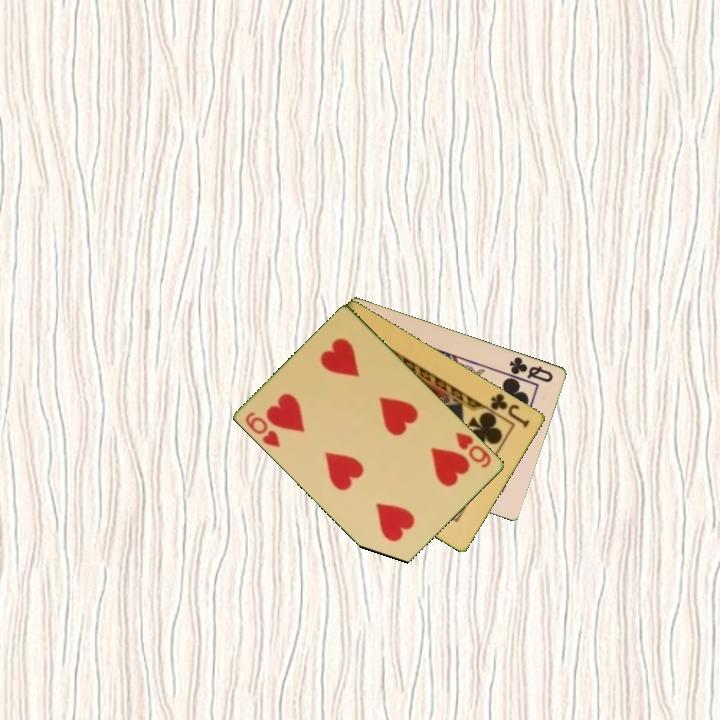6h: (452, 429, 494, 471), (242, 408, 284, 450)
Jc: (481, 389, 533, 430)
Qc: (506, 353, 556, 385)
